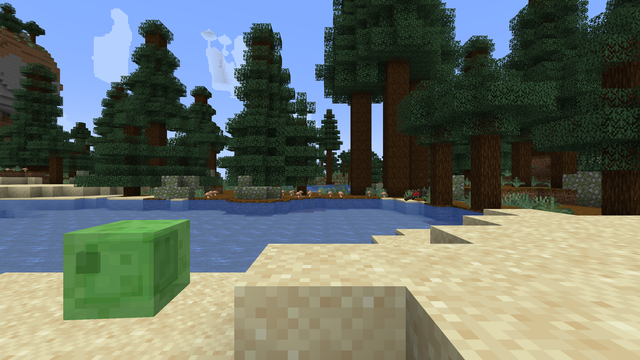araignees: (406, 189, 429, 201)
slimes: (59, 217, 192, 319)
